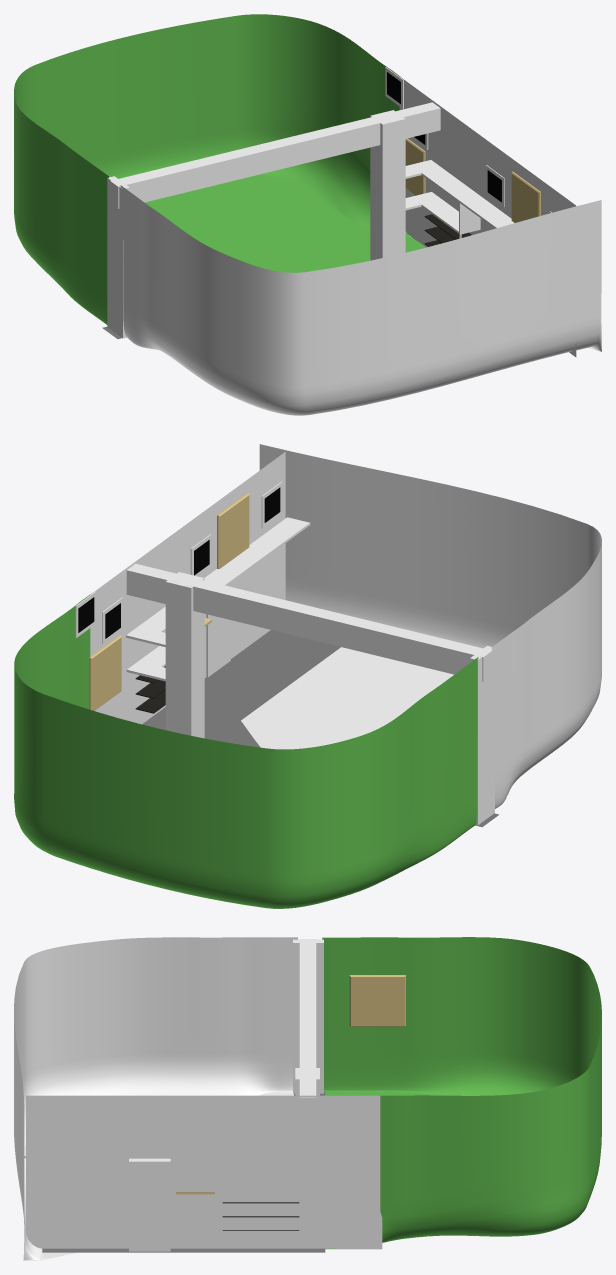
File: main_room_whole.FBX
3 renders of one model, top to bottom at view 1: azimuth 30°, elevation 25°; view 2: azimuth 150°, elevation 25°; view 3: azimuth 270°, elevation 25°, orthographic. The views are drawn at different scales.
Visible parts, largest first — view 1: Walls_2, Walls, Ceiling_Column_Horizontal, Wall_East, Pillar, DividingPillar, ShelfHoriz_2_2, AcousticPad_SouthEast, ShelfHoriz_1_2, AcousticPad_NorthEast; view 2: Walls_2, Walls, Wall_East, Ceiling_Column_Horizontal, Floor_Foyeur, Pillar, DividingPillar, ShelfHoriz_2_2, AcousticPad_NorthEast, AcousticPad_SouthEast, Door, ShelfHoriz_1_2 (+1 smaller); view 3: Walls_2, Wall_East, Walls, Door, Ceiling_Column_Horizontal, AcousticPad_West, DividingPillar, Floor_Foyeur.
Boxes of the visible parts, bbox=[...] form: Walls_2: bbox=[14, 14, 425, 324]; Walls: bbox=[120, 185, 601, 415]; Ceiling_Column_Horizontal: bbox=[110, 102, 440, 208]; Wall_East: bbox=[399, 76, 576, 357]; Pillar: bbox=[370, 110, 405, 260]; DividingPillar: bbox=[107, 176, 129, 338]; ShelfHoriz_2_2: bbox=[411, 160, 576, 269]; AcousticPad_SouthEast: bbox=[511, 171, 540, 222]; ShelfHoriz_1_2: bbox=[411, 192, 458, 233]; AcousticPad_NorthEast: bbox=[405, 138, 425, 195]; Walls_2: bbox=[14, 594, 478, 908]; Walls: bbox=[241, 444, 601, 808]; Wall_East: bbox=[90, 452, 285, 724]; Ceiling_Column_Horizontal: bbox=[126, 563, 492, 681]; Floor_Foyeur: bbox=[142, 630, 340, 739]; Pillar: bbox=[165, 572, 204, 738]; DividingPillar: bbox=[470, 646, 494, 825]; ShelfHoriz_2_2: bbox=[126, 517, 310, 642]; AcousticPad_NorthEast: bbox=[89, 635, 121, 710]; AcousticPad_SouthEast: bbox=[217, 493, 249, 568]; Door: bbox=[206, 583, 230, 677]; ShelfHoriz_1_2: bbox=[126, 646, 165, 677]; Walls_2: bbox=[322, 937, 601, 1248]; Wall_East: bbox=[26, 1095, 382, 1249]; Walls: bbox=[14, 937, 297, 1260]; Door: bbox=[129, 1158, 170, 1251]; Ceiling_Column_Horizontal: bbox=[299, 939, 316, 1120]; AcousticPad_West: bbox=[349, 975, 405, 1026]; DividingPillar: bbox=[293, 939, 323, 1093]; Floor_Foyeur: bbox=[42, 1248, 325, 1252].
Bounding box in the file's own units: 886 × 368 × 1275.
